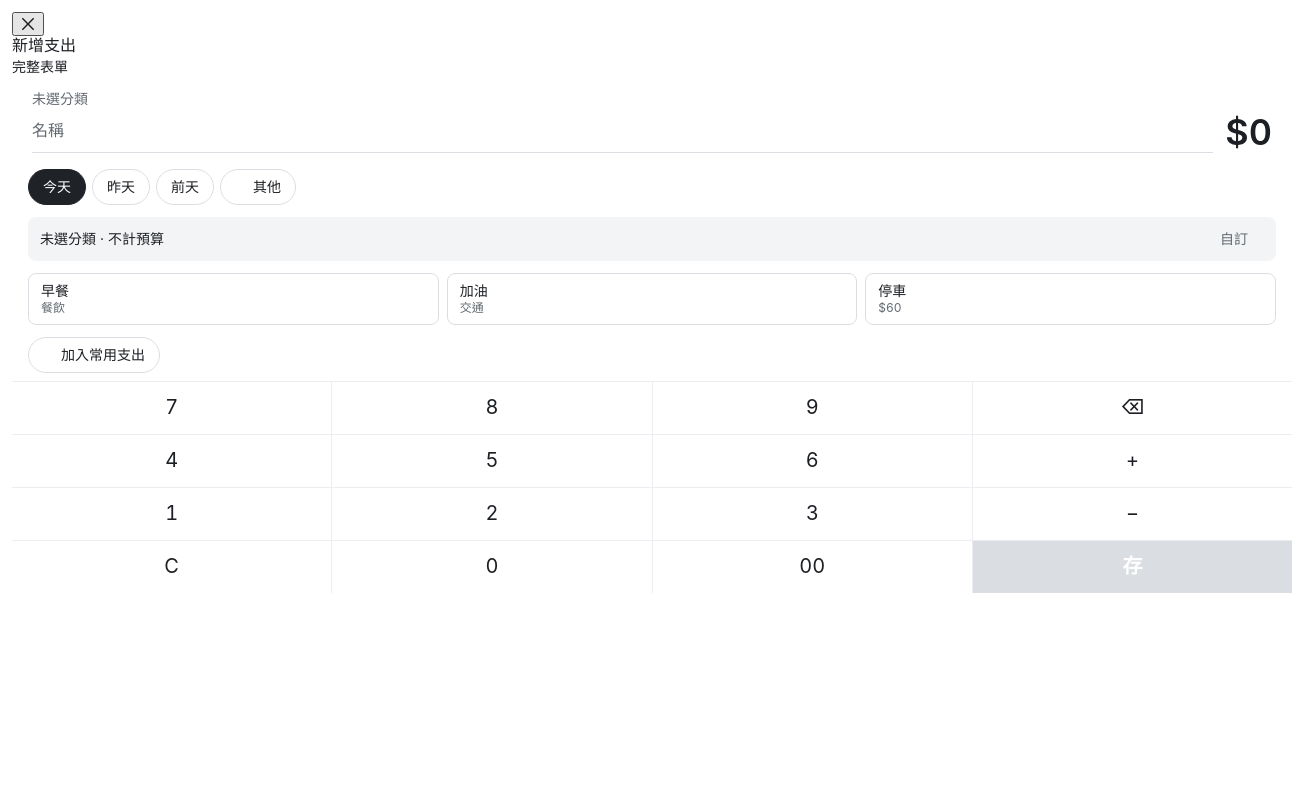
Scenario: <QuickExpenseSheet /> › switching from a fixed-amount template to one without clears that amount
What coordinates should you click on to do the following:
click the button with aria-label "常用 停車"
I would click on:
 (892, 291)
Its box is [865, 273, 1276, 325].
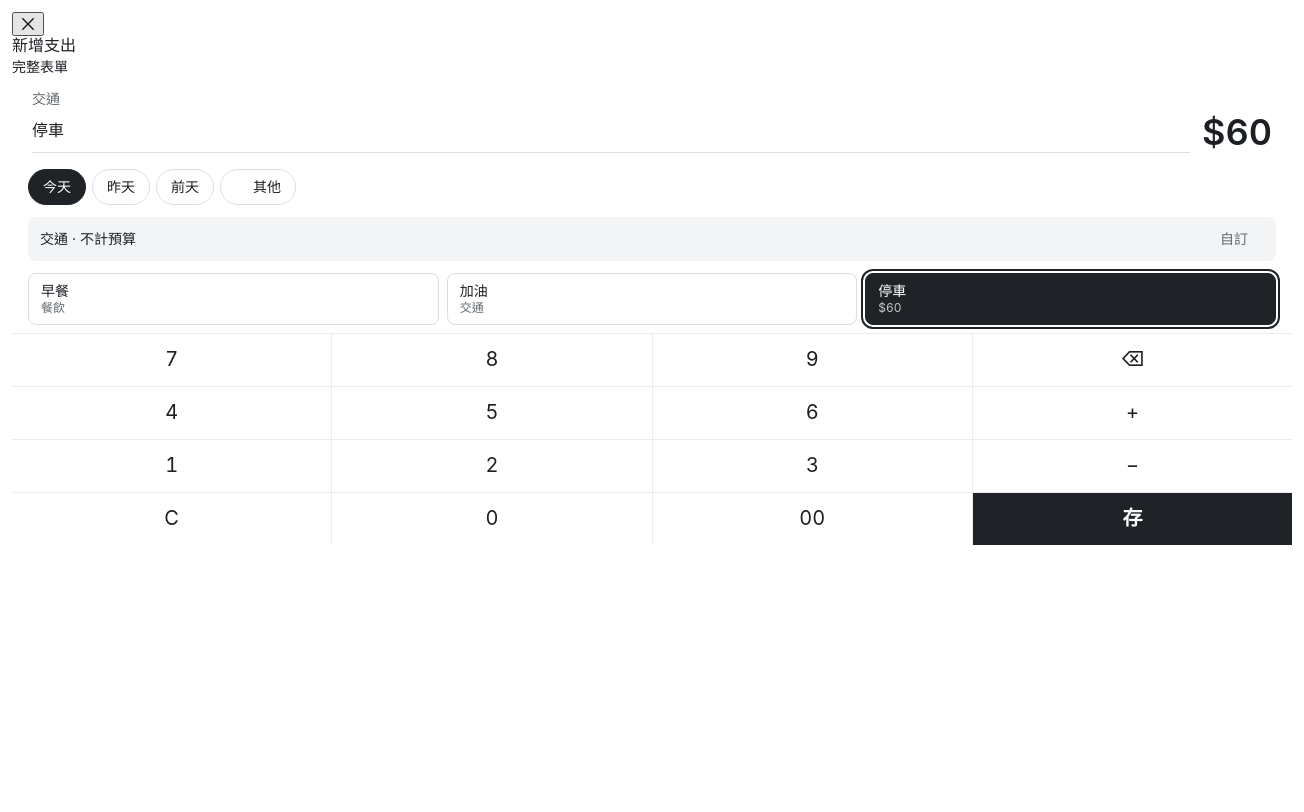
What coordinates should you click on to do the following:
click the button with aria-label "常用 早餐"
I would click on:
 (55, 291)
Its box is [28, 273, 439, 325].
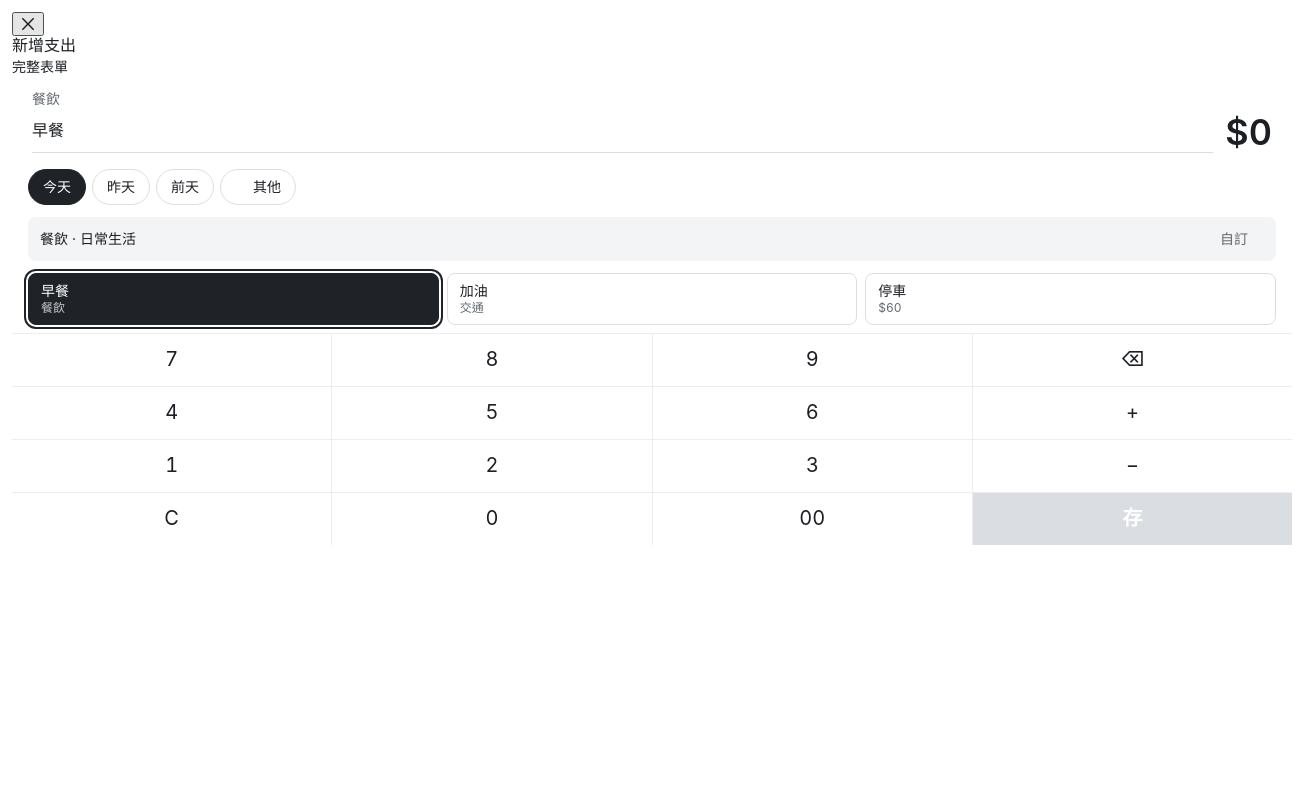
Result: the text named "金額" reads "$0" at [1225, 113, 1272, 153]
